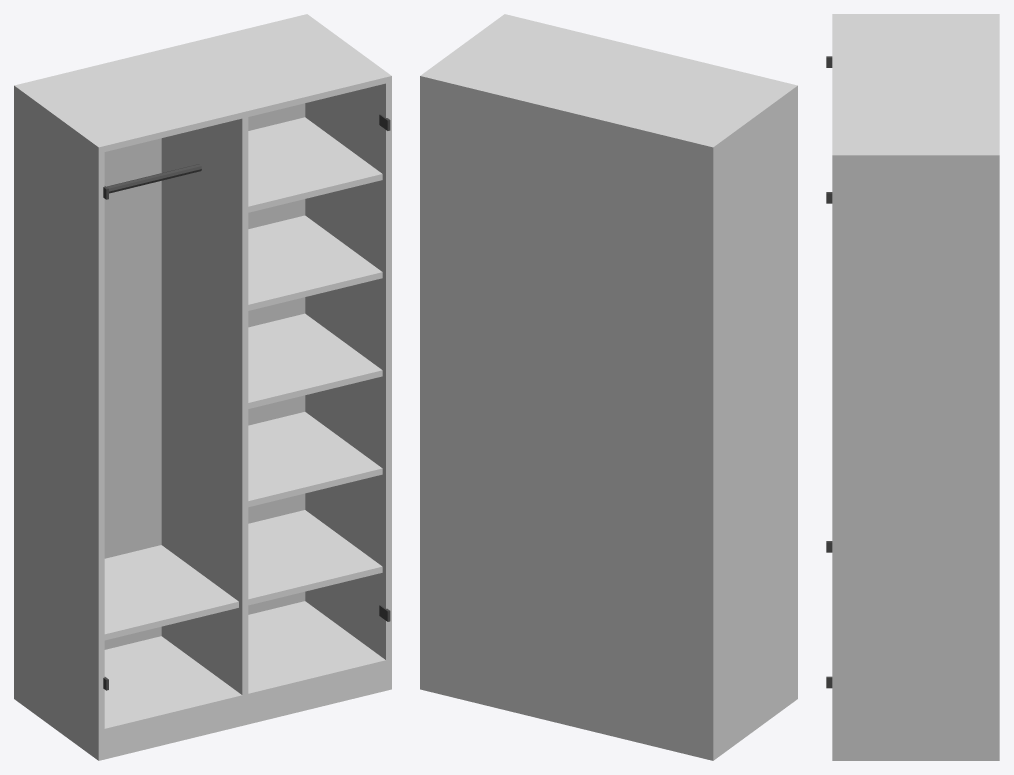
File: Wardrobe1_C1.fbx
3 views of the same model, side by side, from view 1: azimuth 30°, elevation 25°; view 2: azimuth 150°, elevation 25°; view 3: azimuth 270°, elevation 25° (orthographic).
Visible parts, largest first — view 1: Wardrobe1_C1; view 2: Wardrobe1_C1; view 3: Wardrobe1_C1.
Part boxes in pixels (x1=…): Wardrobe1_C1: x1=14, y1=14, x2=391, y2=760; Wardrobe1_C1: x1=420, y1=14, x2=797, y2=760; Wardrobe1_C1: x1=826, y1=14, x2=999, y2=760.
Size of the model in its own units: 100 by 200 by 51.79.
